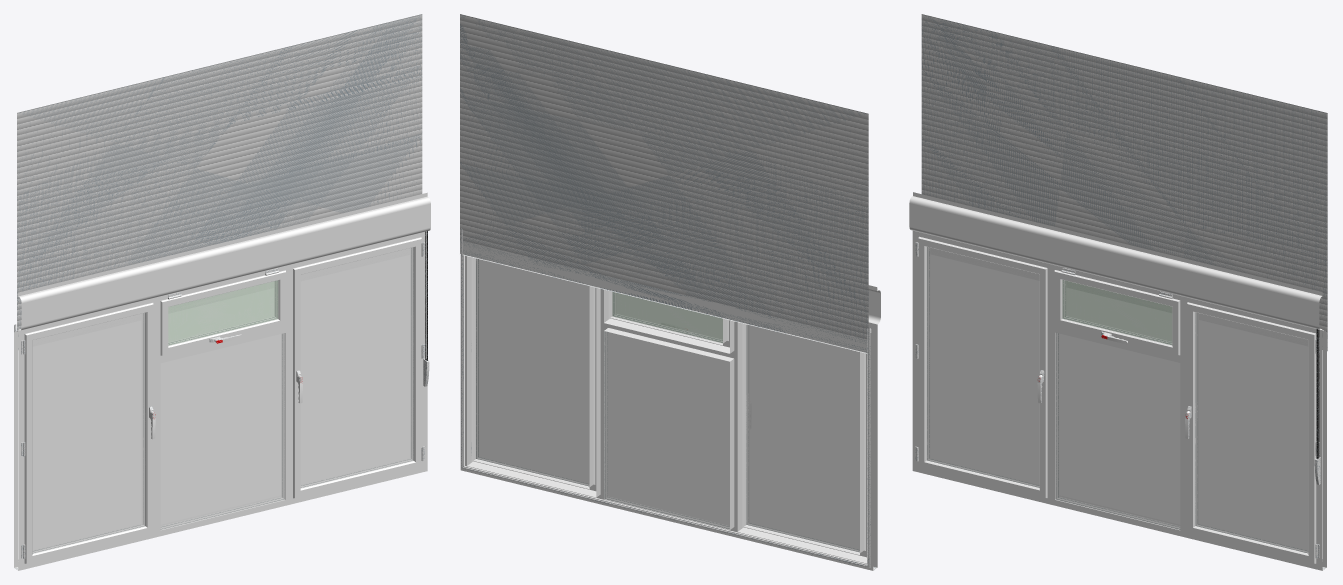
The model's file is Window1_os_220x143x[3 casement_blinds].dae.
3 renders of one model, left to right at view 1: azimuth 30°, elevation 25°; view 2: azimuth 150°, elevation 25°; view 3: azimuth 330°, elevation 25°, orthographic.
Visible parts, largest first — view 1: group_33, group_25 (×3), group_16 (×2), group_24 (×2), group_29, group_8 (×2), group_15 (×2), group_23 (×2), group_7, group_28; view 2: group_33 (×2), group_25 (×8), group_16 (×2), group_24 (×2), group_28 (×2), group_23 (×4), group_8 (×2), group_15 (×4), group_7; view 3: group_33, group_25 (×3), group_24 (×2), group_16 (×2), group_29, group_8 (×2), group_15 (×2), group_23 (×2), group_7, group_28.
Part boxes in pixels (left/top/right/bottom): group_33: left=17, top=14, right=422, bottom=336; group_25 (×3): left=18, top=231, right=427, bottom=570; group_16 (×2): left=32, top=313, right=145, bottom=553; group_24 (×2): left=300, top=247, right=413, bottom=487; group_29: left=18, top=192, right=430, bottom=330; group_8 (×2): left=168, top=280, right=278, bottom=345; group_15 (×2): left=24, top=302, right=153, bottom=563; group_23 (×2): left=293, top=237, right=421, bottom=498; group_7: left=160, top=270, right=285, bottom=355; group_28: left=14, top=330, right=18, bottom=567; group_33 (×2): left=459, top=14, right=868, bottom=353; group_25 (×8): left=465, top=256, right=877, bottom=567; group_16 (×2): left=746, top=324, right=859, bottom=552; group_24 (×2): left=476, top=258, right=589, bottom=486; group_28 (×2): left=460, top=228, right=873, bottom=570; group_23 (×4): left=467, top=256, right=600, bottom=496; group_8 (×2): left=612, top=291, right=722, bottom=343; group_15 (×4): left=738, top=322, right=870, bottom=559; group_7: left=604, top=290, right=729, bottom=352; group_33: left=921, top=14, right=1327, bottom=337; group_25 (×3): left=912, top=230, right=1322, bottom=570; group_24 (×2): left=1195, top=312, right=1308, bottom=553; group_16 (×2): left=927, top=247, right=1039, bottom=487; group_29: left=909, top=192, right=1322, bottom=329; group_8 (×2): left=1062, top=280, right=1172, bottom=345; group_15 (×2): left=918, top=236, right=1047, bottom=497; group_23 (×2): left=1187, top=302, right=1316, bottom=563; group_7: left=1054, top=270, right=1180, bottom=355; group_28: left=1322, top=330, right=1326, bottom=567.
Bounding box in the file's own units: 86.63 × 4.24 × 91.71.
13 materials, 1 textured.
